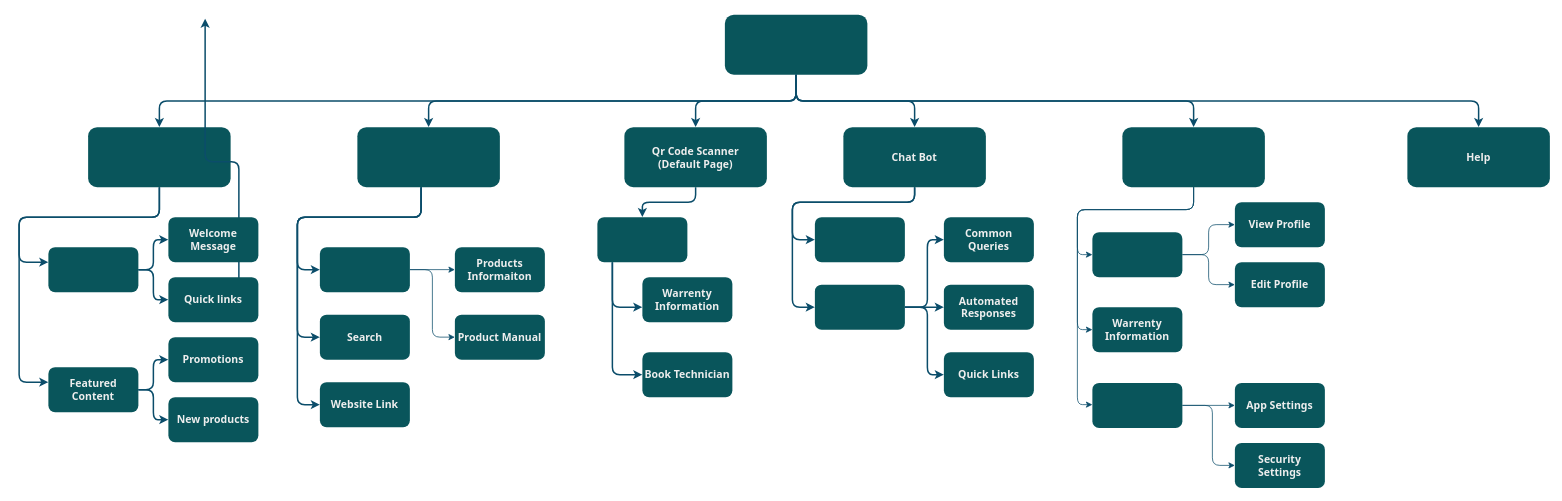
The diagram is 1562 pixels wide and 501 high, and some of its shapes have lost their labels. The shapes that lost their labels are listed below. From the top down, each one's box as (x1, y1, x2, y2) in pixels, then its label:
(724, 14, 867, 74): Luss Industries
(88, 127, 230, 187): Home
(357, 127, 500, 187): Browse
(1122, 127, 1264, 187): Account
(597, 217, 687, 262): QR scanner
(814, 217, 904, 262): Recent Chat
(1092, 232, 1182, 277): Profile Information
(48, 247, 138, 292): Overview
(320, 247, 410, 292): Products
(814, 284, 904, 329): Chatbot Response
(1092, 382, 1182, 428): Settings
